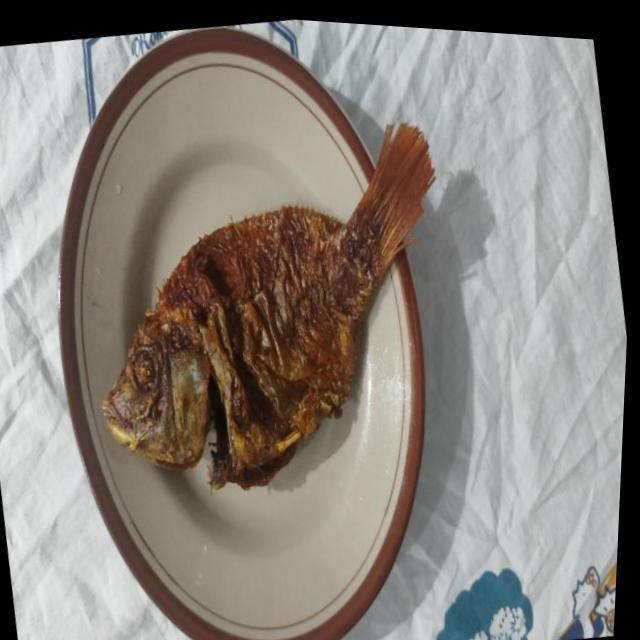ikan_mujair: (103, 124, 435, 490)
